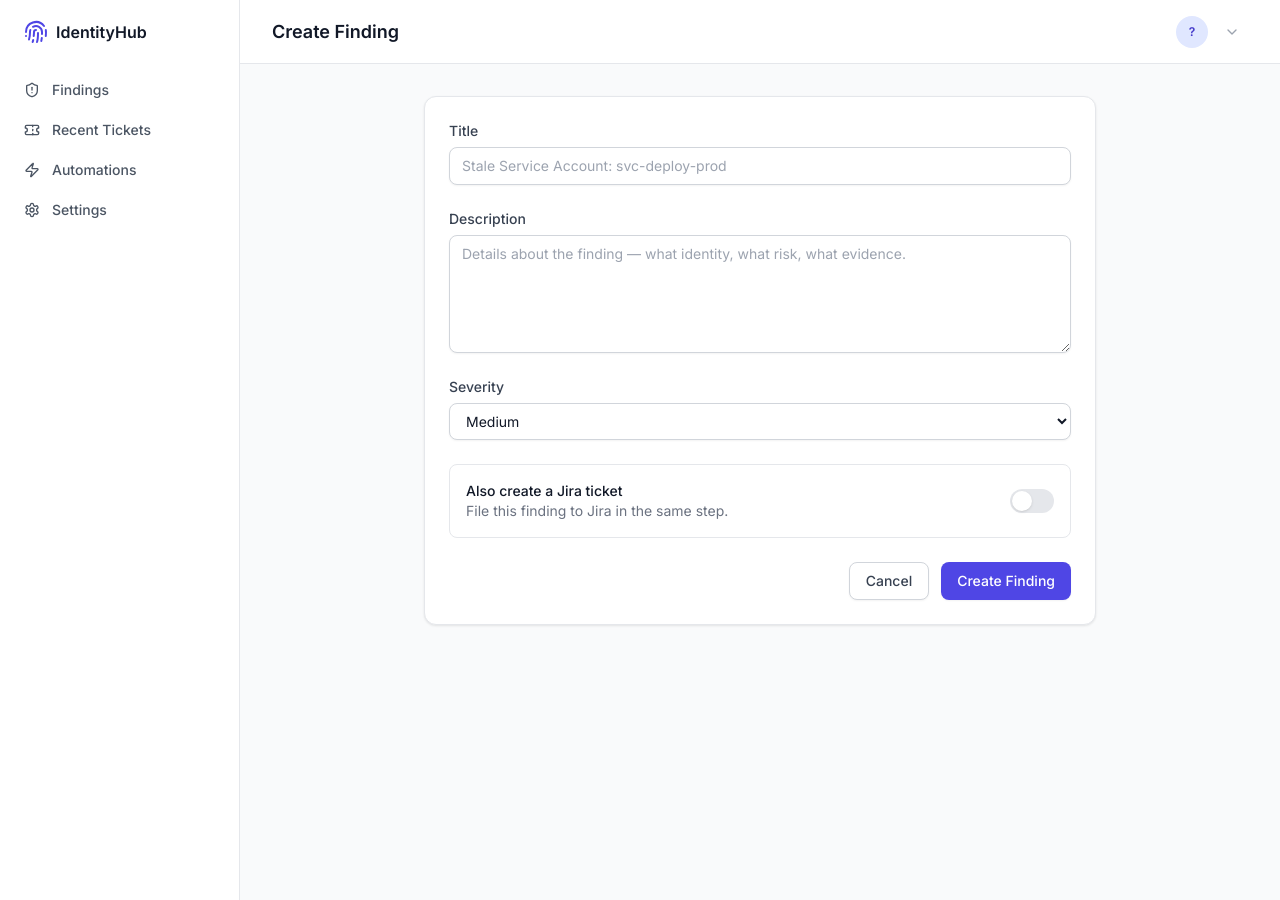
Test: CreateFindingPage › shows Project and Issue Type dropdowns once enabled, when Jira is connected
This screenshot has width=1280, height=900.
Step 1. Click the switch → [1032, 501], box [1010,489,1054,513]
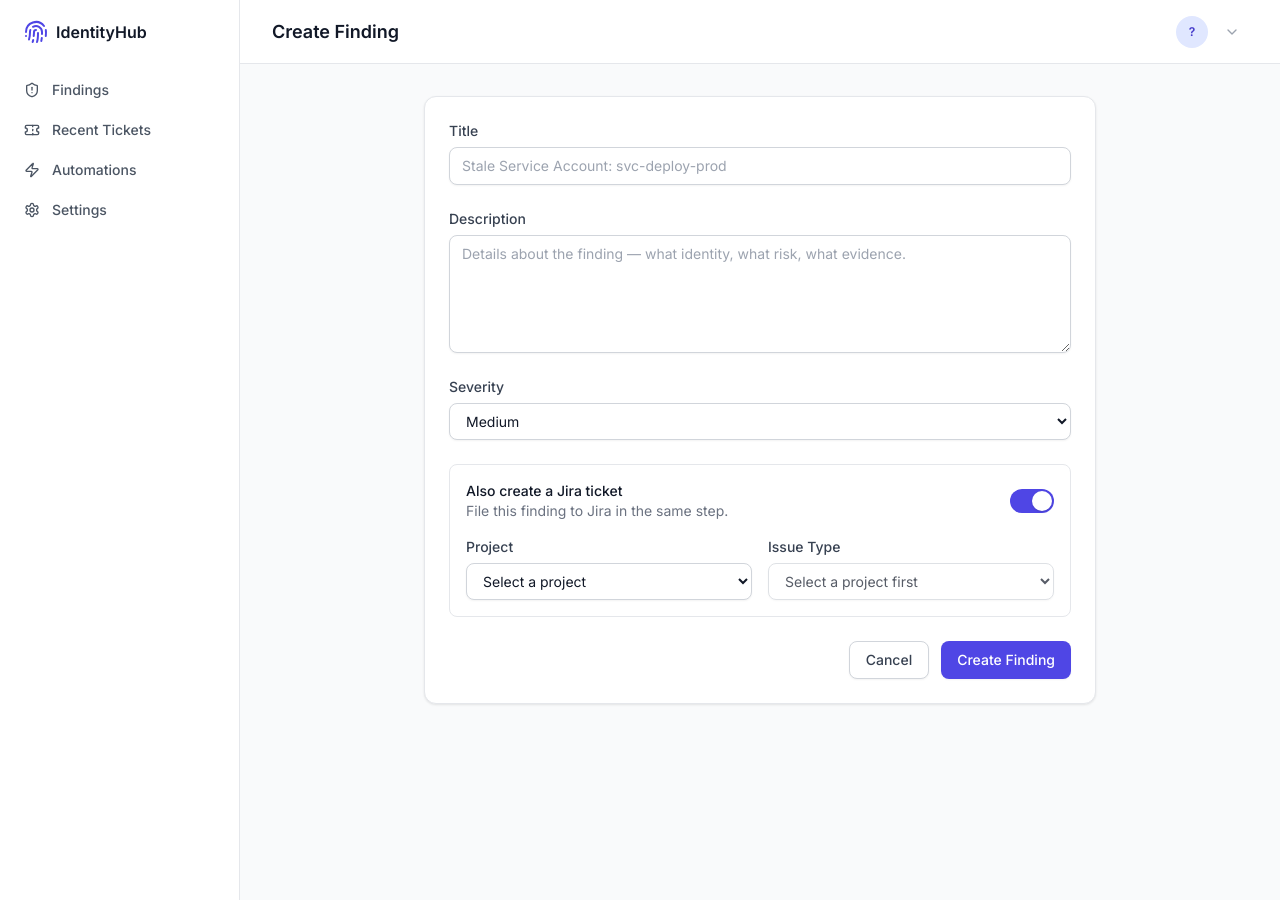
Expected: the dropdown labelled "Project" is shown, [466,563,752,600]
Expected: the dropdown labelled "Issue Type" is shown, [768,563,1054,600]
